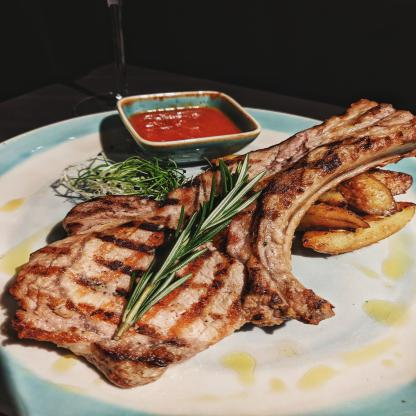Carne: (0, 158, 260, 390)
